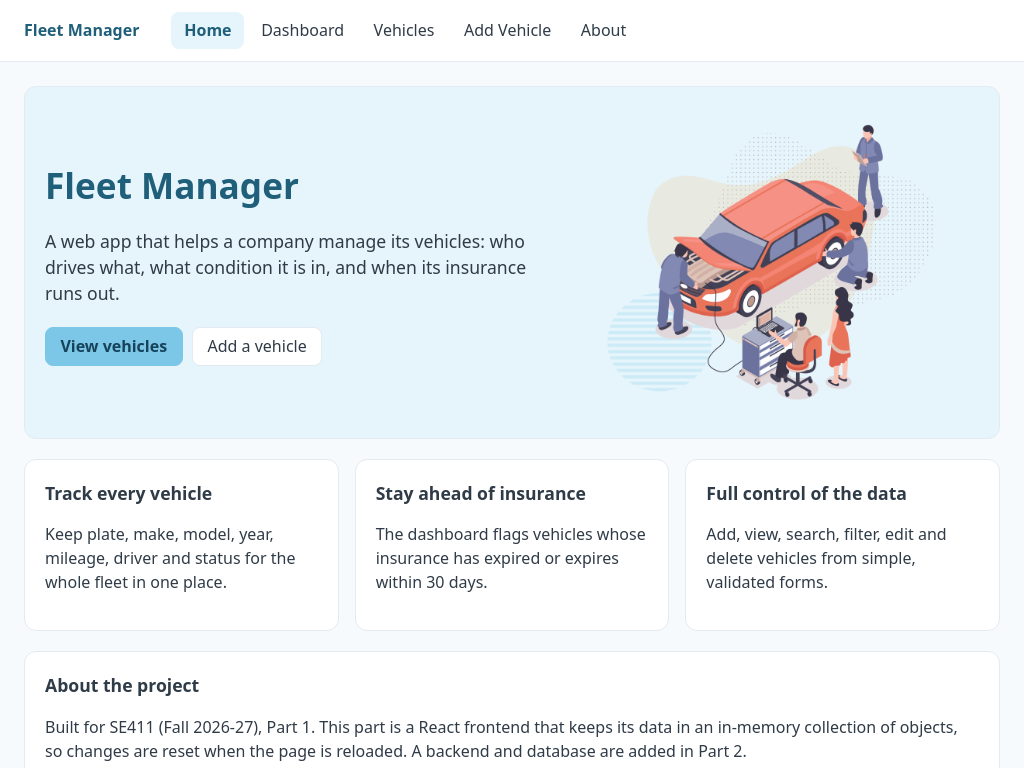
Test: navigation › shows every menu item and opens the About page with team members
Expected: the heading "Fleet Manager" is shown, [45,161,299,209]
Expected: the link "Home" is shown, [172,12,244,49]
Click the link "About" at (604, 30), box [581,19,626,41]
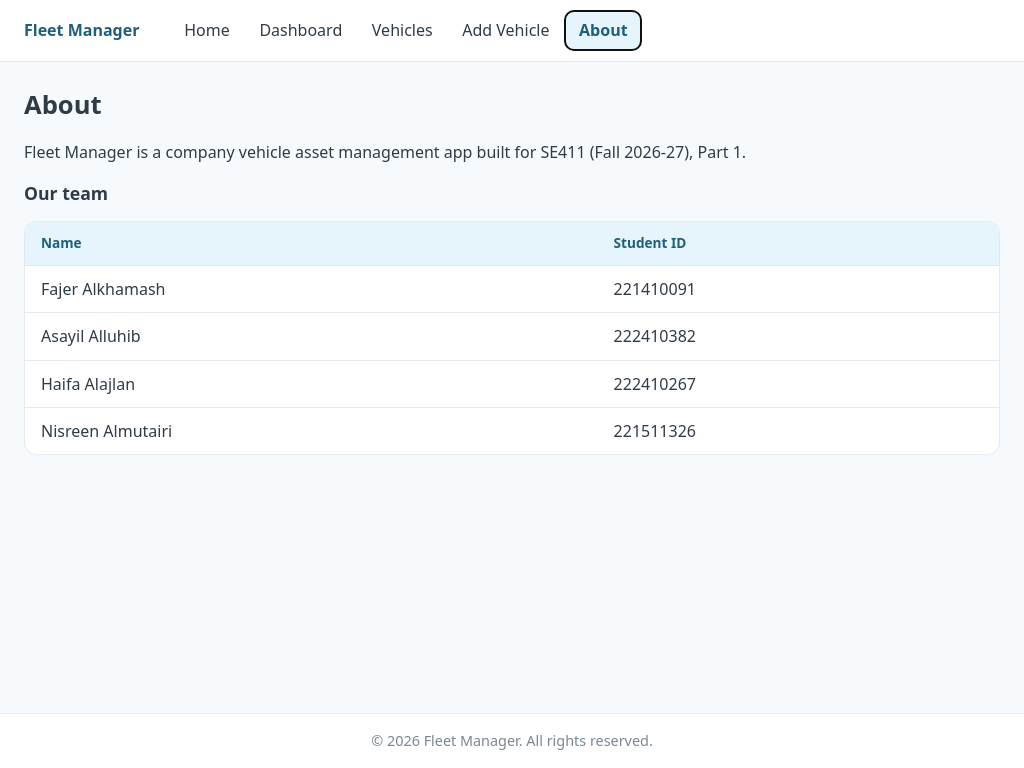
Result: the text "Fajer Alkhamash" is shown at [25,265,598,313]
Result: the text "221511326" is shown at [598,408,999,454]
